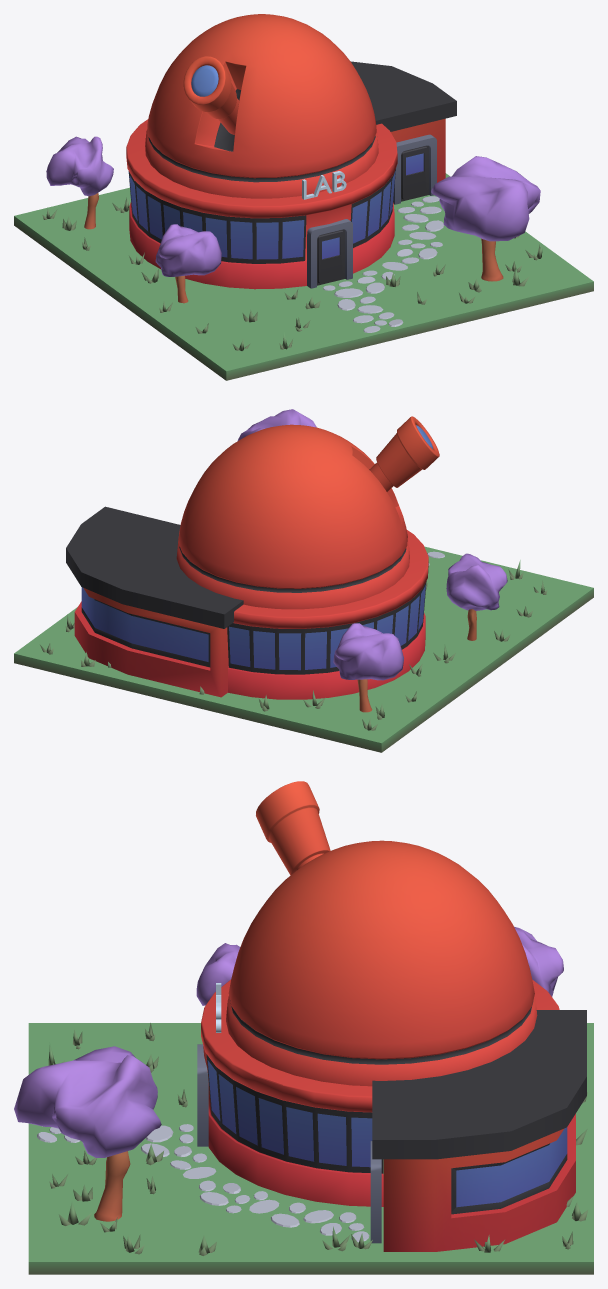
File: research_lab.glb
3 views of the same model, one above another, from view 1: azimuth 30°, elevation 25°; view 2: azimuth 150°, elevation 25°; view 3: azimuth 270°, elevation 25° (orthographic). The views are drawn at different scales.
Parts seen in each view (by area): view 1: research_lab; view 2: research_lab; view 3: research_lab.
Boxes of the visible parts, x1,y1,x2,y2 form: research_lab: [14, 14, 593, 380]; research_lab: [14, 409, 593, 752]; research_lab: [14, 781, 593, 1274].
Bounding box in the file's own units: 2 × 1.2 × 2.05.
Materials: 1 (1 with a texture image).
